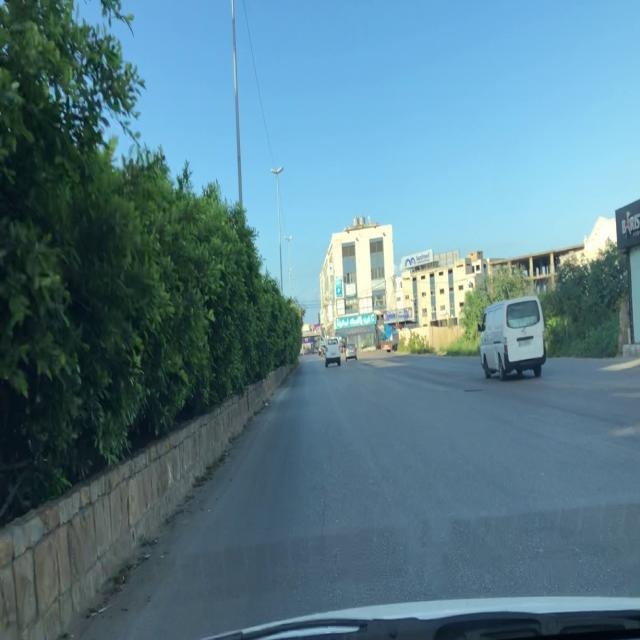Pothole: (463, 386, 485, 395)
